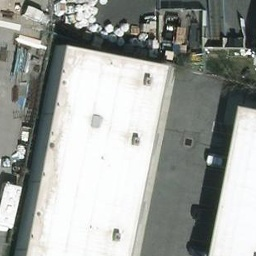car: (190, 205, 226, 225), (207, 152, 235, 172)
